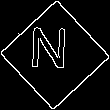N_S: (34, 29, 76, 81)
